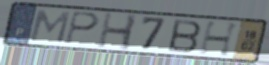7: (139, 16, 170, 52)
B: (166, 18, 203, 54)
H: (95, 10, 140, 52), (197, 20, 242, 58)
M: (28, 8, 73, 45)
P: (64, 10, 101, 46)
